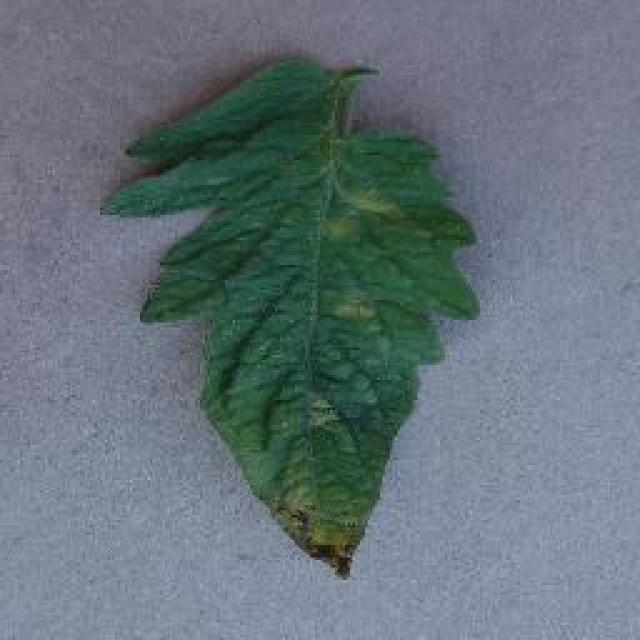Tomato___Leaf_Mold: (105, 58, 475, 570)
